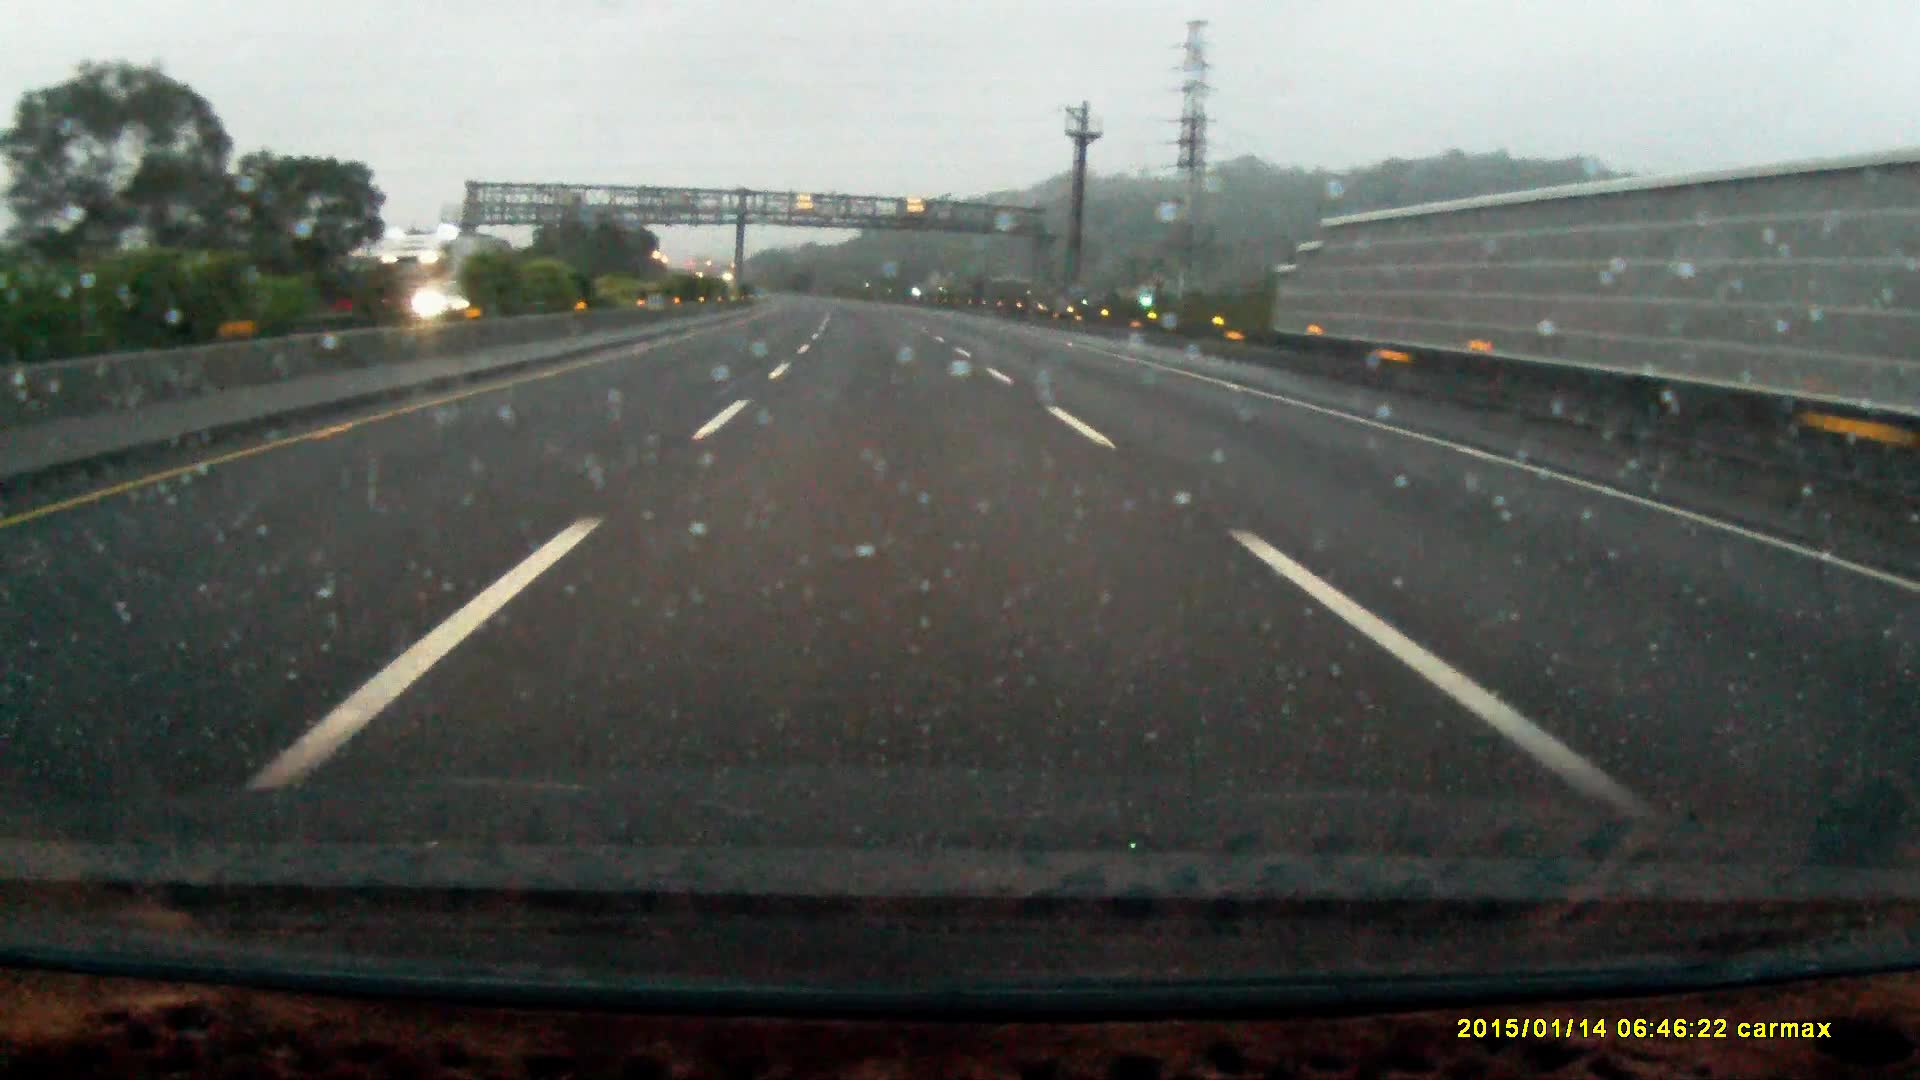vehicle: (378, 233, 498, 324), (411, 278, 498, 319)
